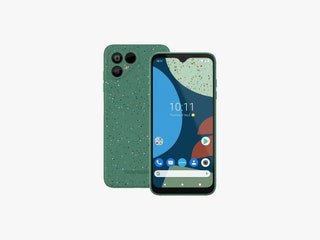phones: (93, 36, 222, 199)
